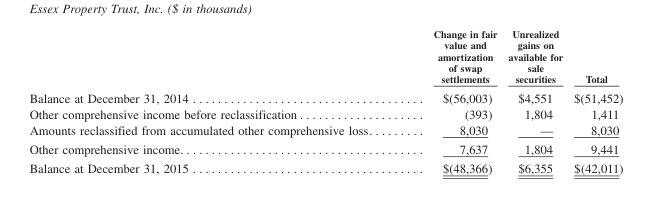table: (28, 29, 622, 175)
table column: (28, 29, 402, 175), (402, 29, 501, 175), (501, 29, 567, 175), (567, 29, 622, 175)
table column header: (28, 29, 622, 88)
table row: (28, 29, 622, 88), (28, 139, 622, 159), (28, 88, 622, 106), (28, 122, 622, 139), (28, 106, 622, 122), (28, 159, 622, 175)
